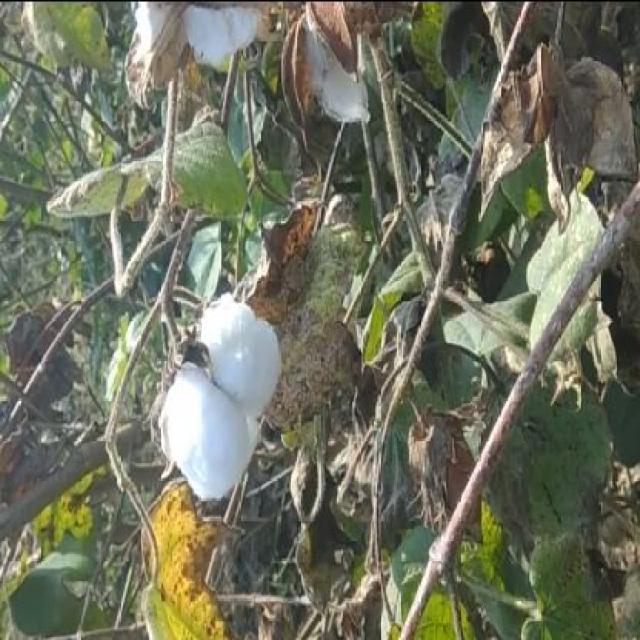cotton_ready: (138, 271, 291, 498)
